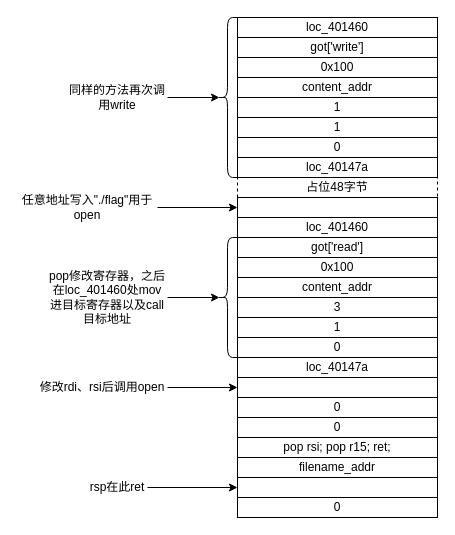
Some shapes in this 455 by 535 pixel diagram are drawn without their labels. The centre of each missing label's shape, as x and y in pixels:
"'./flag\x00\x00'" belongs at point 337,207.
"plt['open']" belongs at point 337,387.
"pop rdi; ret;" belongs at point 337,487.
